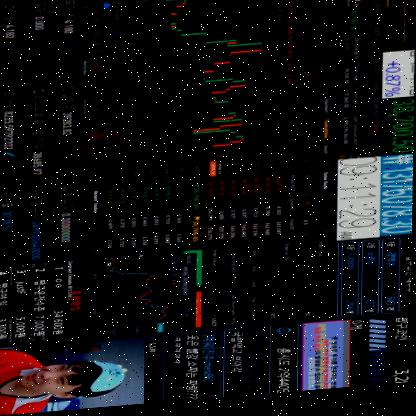streamer: (0, 339, 129, 416)
